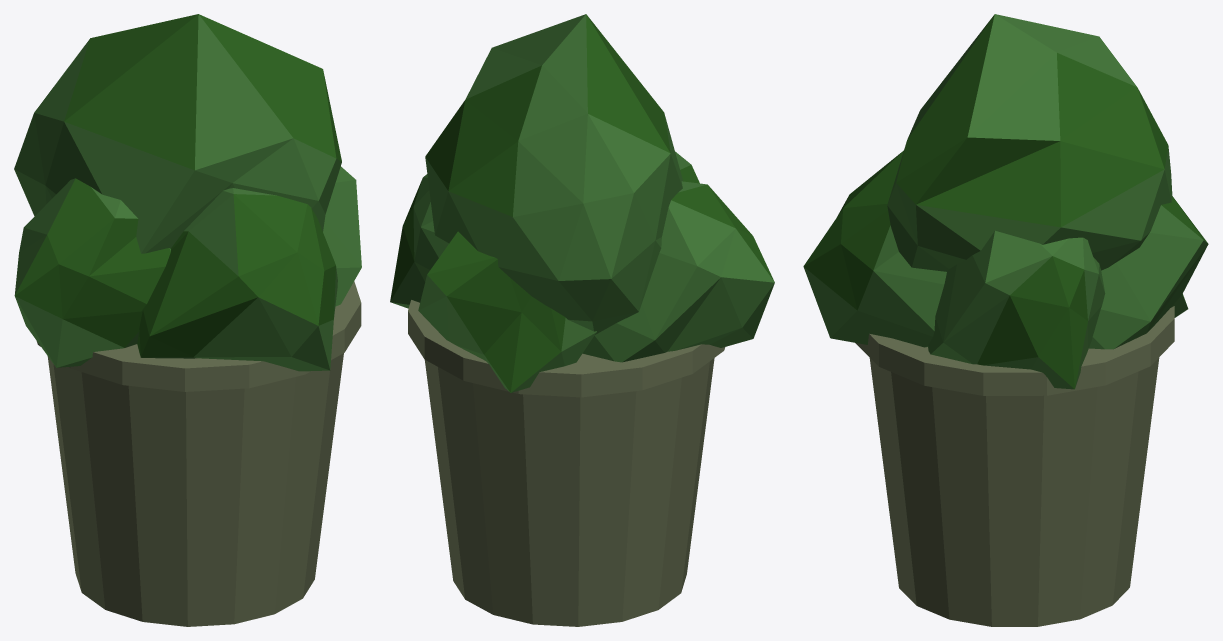
File: plant2.fbx
3 renders of one model, left to right at view 1: azimuth 30°, elevation 25°; view 2: azimuth 150°, elevation 25°; view 3: azimuth 270°, elevation 25°, orthographic. The views are drawn at different scales.
Parts seen in each view (by area): view 1: plant2; view 2: plant2; view 3: plant2.
Part boxes in pixels (x1,y1,x2,y2): plant2: [14, 14, 361, 626]; plant2: [390, 14, 774, 626]; plant2: [803, 14, 1208, 626].
Size of the model in its own units: 0.1775 by 0.2779 by 0.1819.
